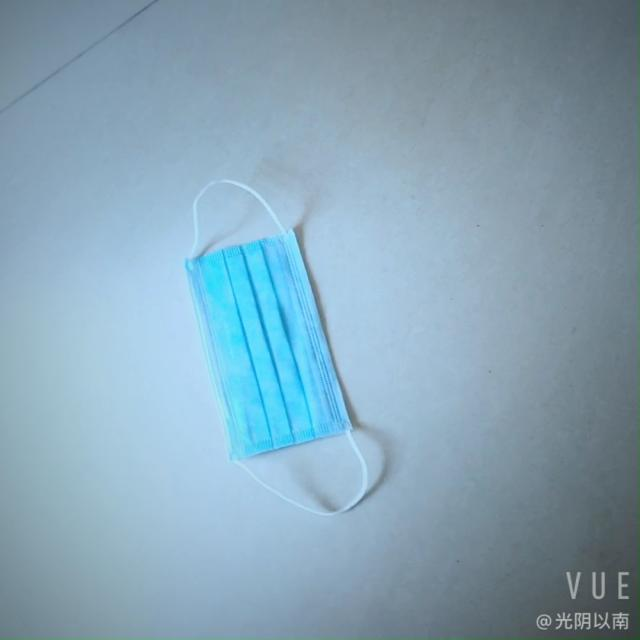non-organic waste: (176, 215, 366, 473)
